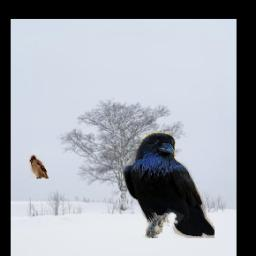Crow: (123, 131, 215, 238)
Sparrow: (29, 155, 49, 179)
